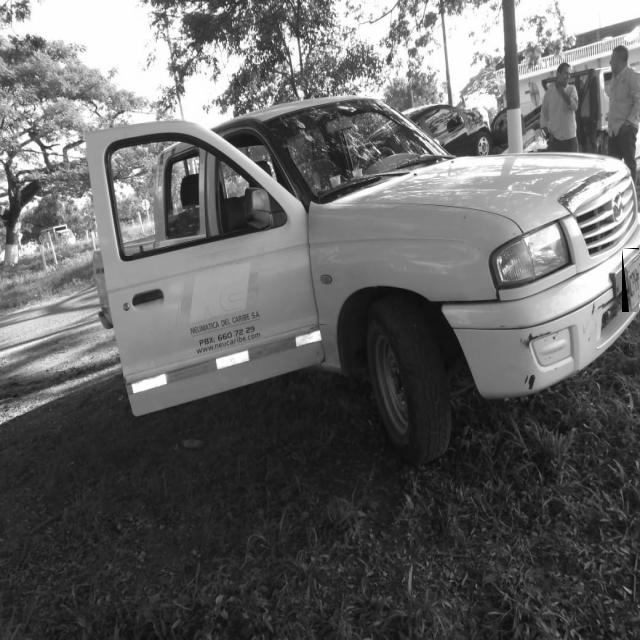plate: (623, 250, 640, 312)
